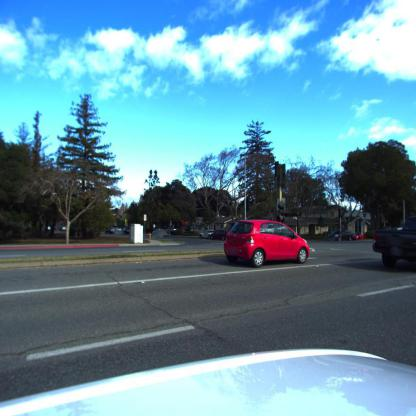car: (224, 221, 311, 268), (327, 230, 353, 242), (208, 230, 228, 242), (105, 226, 125, 234)
truck: (373, 216, 416, 272)
